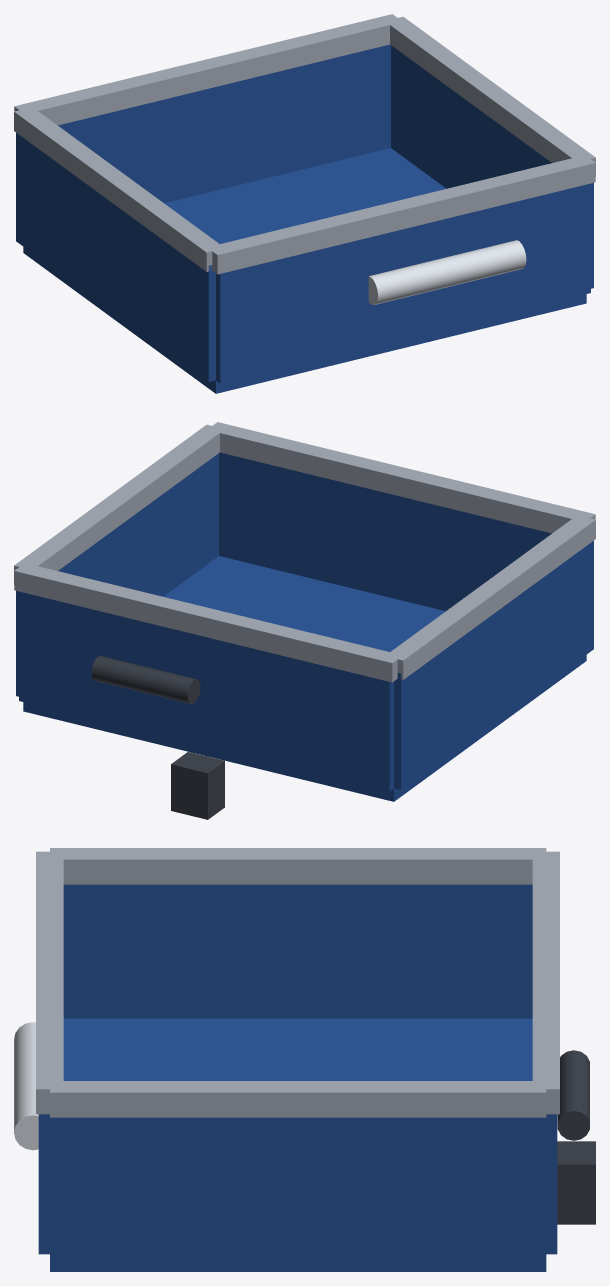
The model's file is kvi-car-01.glb.
3 views of the same model, one above another, from view 1: azimuth 30°, elevation 25°; view 2: azimuth 150°, elevation 25°; view 3: azimuth 270°, elevation 25° (orthographic). The views are drawn at different scales.
Parts seen in each view (by area): view 1: Tolva de carga con volteo; view 2: Tolva de carga con volteo; view 3: Tolva de carga con volteo.
Boxes of the visible parts, <box> form: Tolva de carga con volteo: <box>14,14,595,393</box>; Tolva de carga con volteo: <box>14,422,595,819</box>; Tolva de carga con volteo: <box>14,848,595,1271</box>.
Bounding box in the file's own units: 0.9953 × 0.4597 × 1.
